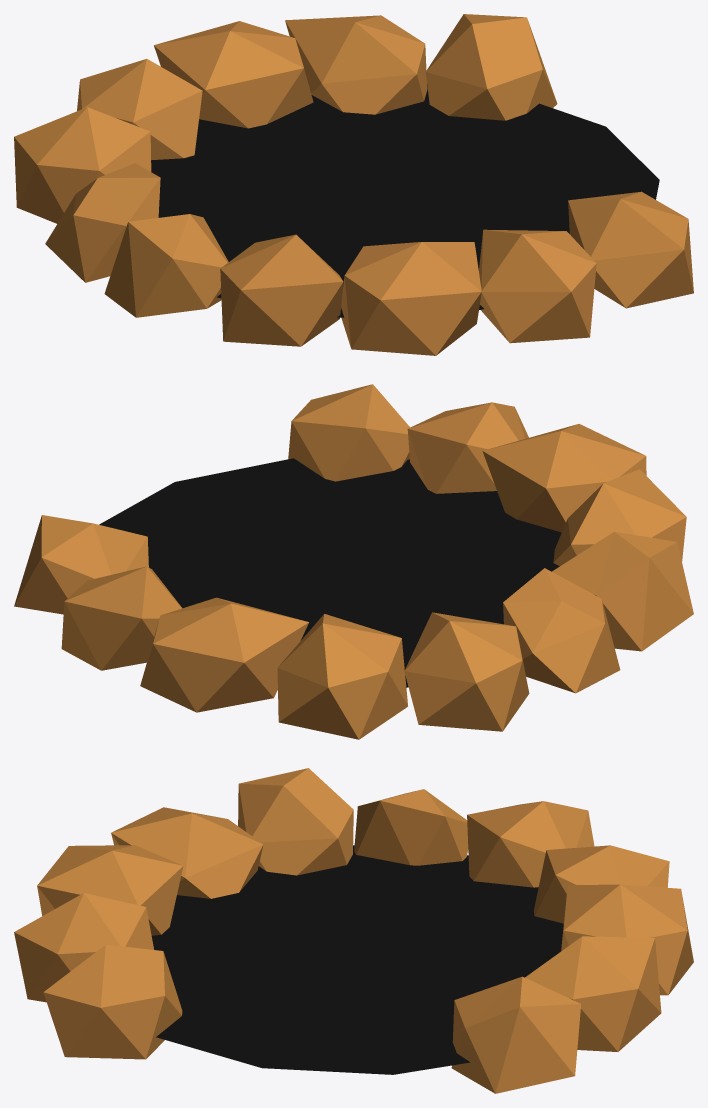
Rendered from SpawnPoint.fbx.
3 renders of one model, top to bottom at view 1: azimuth 30°, elevation 25°; view 2: azimuth 150°, elevation 25°; view 3: azimuth 270°, elevation 25°, orthographic. The views are drawn at different scales.
Parts seen in each view (by area): view 1: Icosphere.000, Circle; view 2: Icosphere.000, Circle; view 3: Icosphere.000, Circle.
Part boxes in pixels (box(x1,y1,x2,y2)): Icosphere.000: box(14, 14, 693, 355); Circle: box(151, 84, 659, 317); Icosphere.000: box(14, 384, 693, 739); Circle: box(99, 458, 561, 687); Icosphere.000: box(14, 768, 693, 1093); Circle: box(151, 845, 563, 1074).
Size of the model in its own units: 466 by 76.61 by 523.
